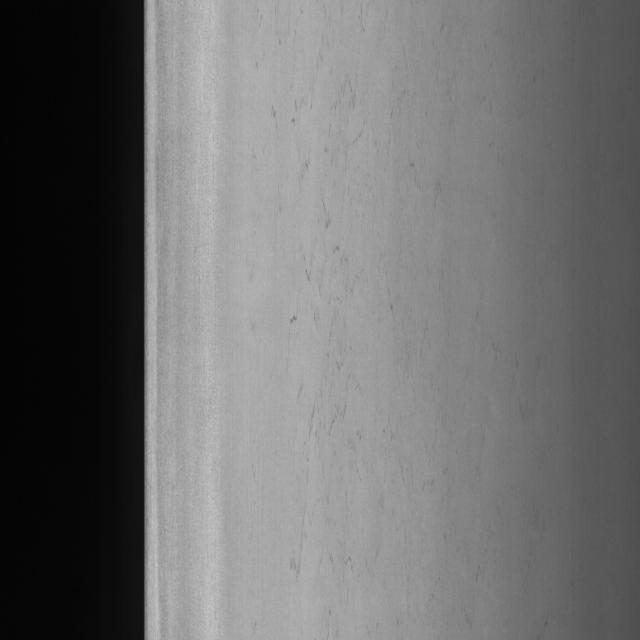inclusion: (254, 35, 426, 537)
